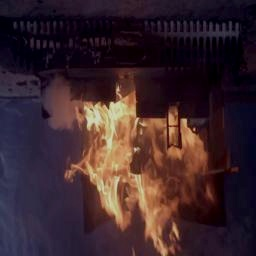fire: (53, 105, 225, 256)
